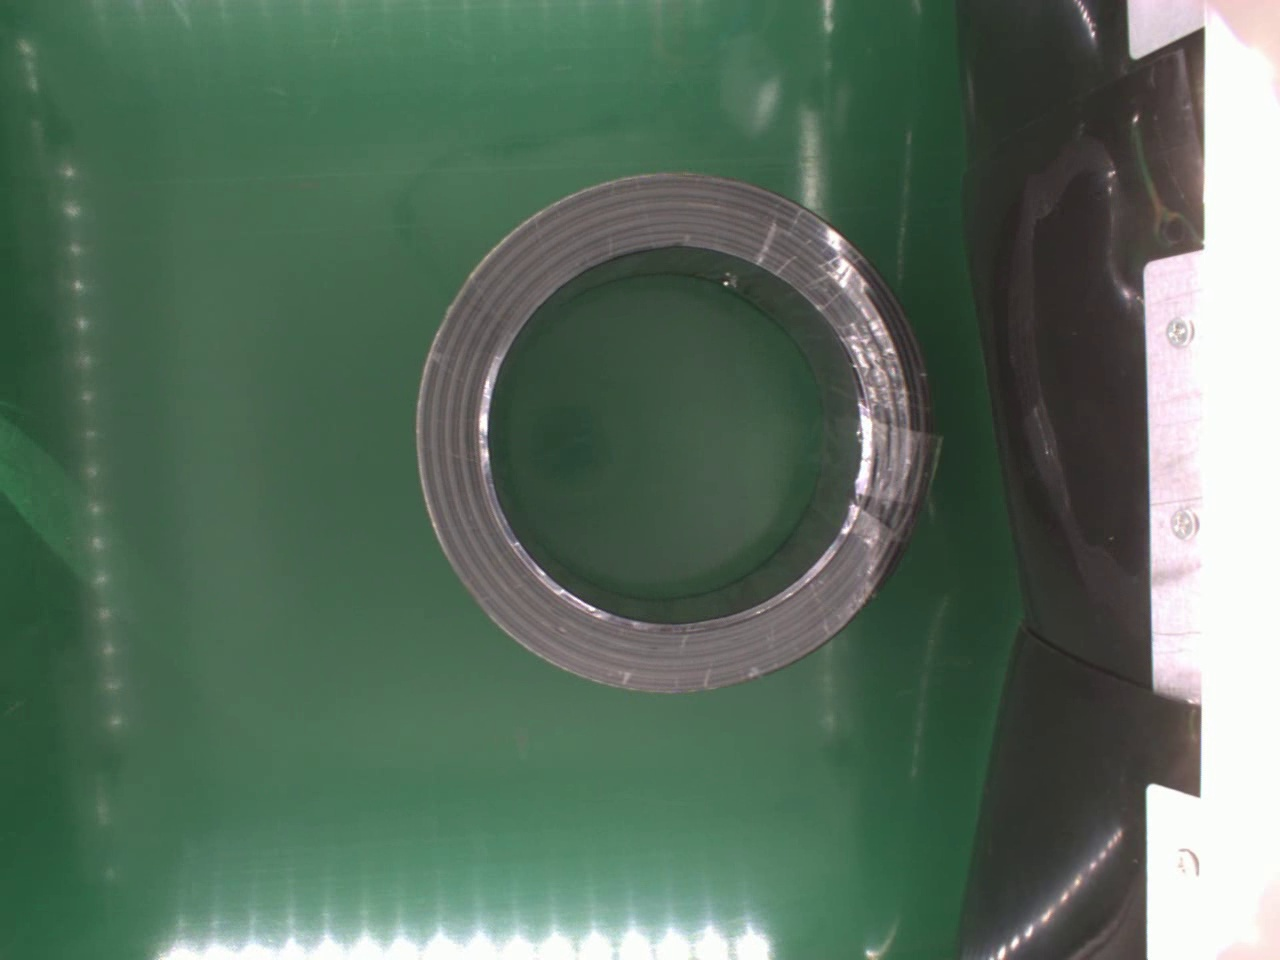black: (409, 166, 944, 698)
